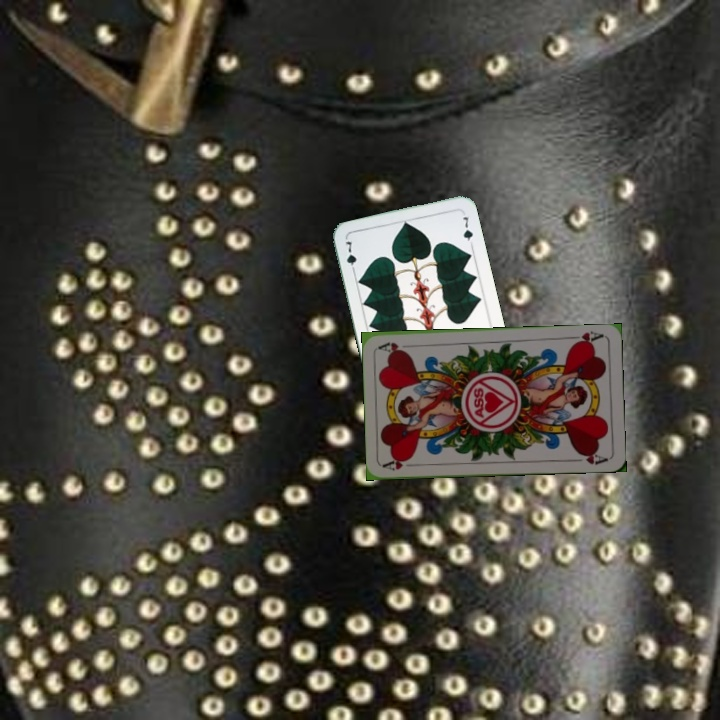G7: (341, 237, 359, 276)
HA: (565, 327, 605, 348), (381, 454, 421, 473)
